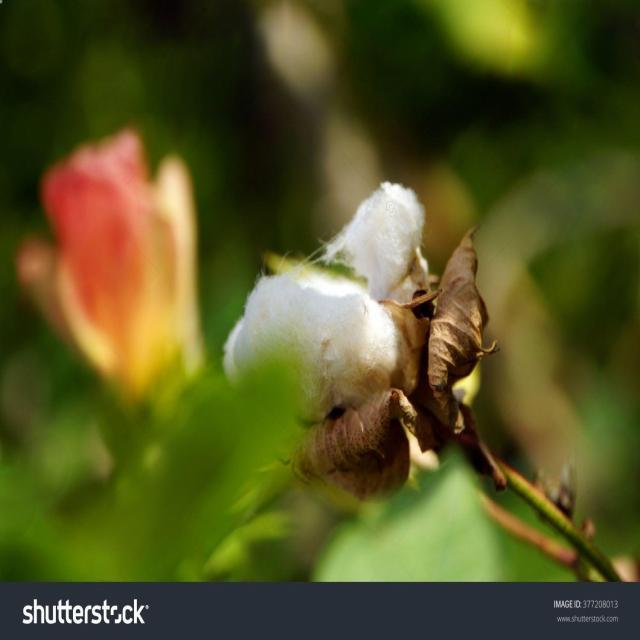Early_blight: (238, 270, 407, 414), (323, 176, 432, 306)
